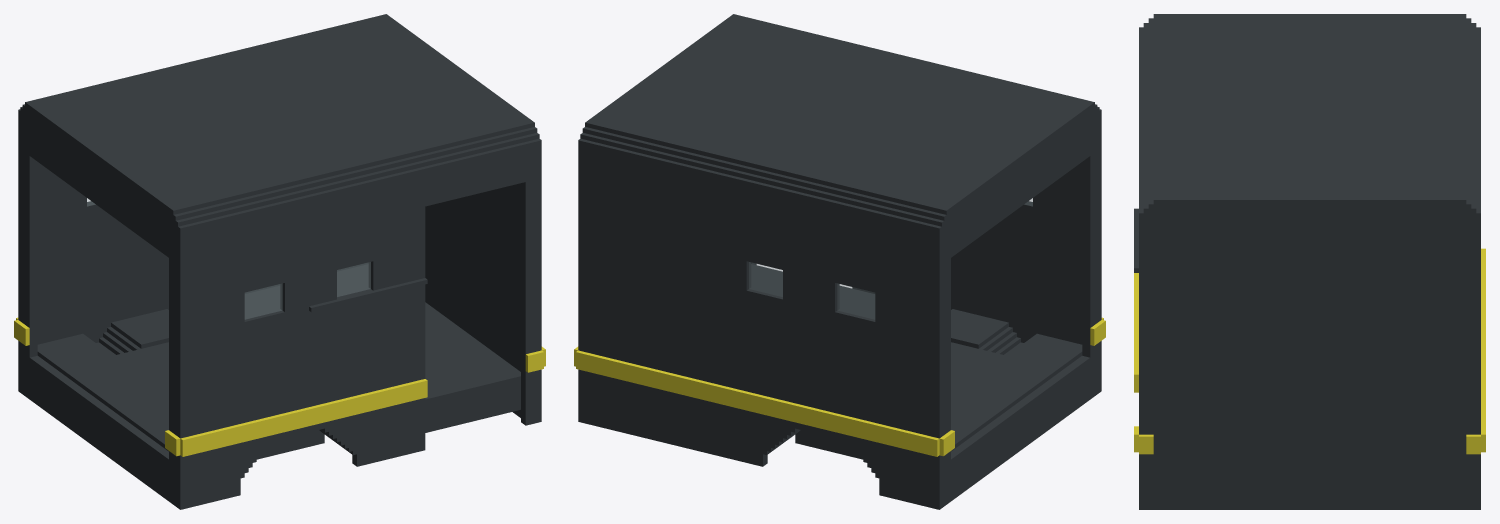
File: security_van_box.glb
3 renders of one model, left to right at view 1: azimuth 30°, elevation 25°; view 2: azimuth 150°, elevation 25°; view 3: azimuth 270°, elevation 25°, orthographic. The views are drawn at different scales.
Visible parts, largest first — view 1: body:compound; view 2: body:compound; view 3: body:compound.
Boxes of the visible parts, x1=… form: body:compound: x1=14, y1=14, x2=545, y2=509; body:compound: x1=574, y1=14, x2=1105, y2=509; body:compound: x1=1134, y1=14, x2=1485, y2=509.
Bounding box in the file's own units: 2.88 × 2.19 × 2.25.
